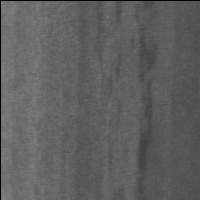inclusion: (102, 2, 141, 195), (126, 22, 160, 200)
